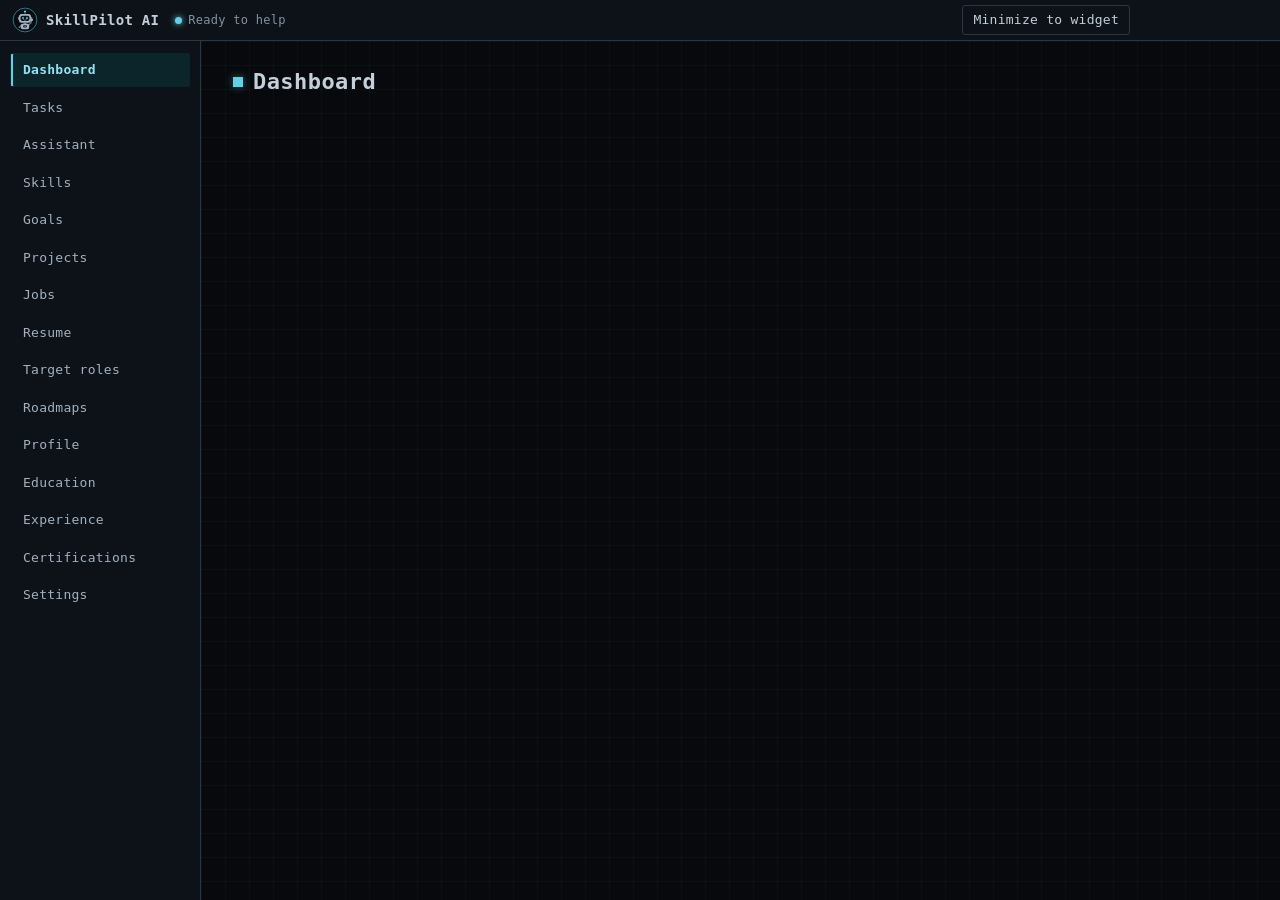
Test: App › switches to Projects
Expected: the heading "Dashboard" is shown, [253,69,376,94]
Click the button "Projects": (100, 257) [10,240,190,274]
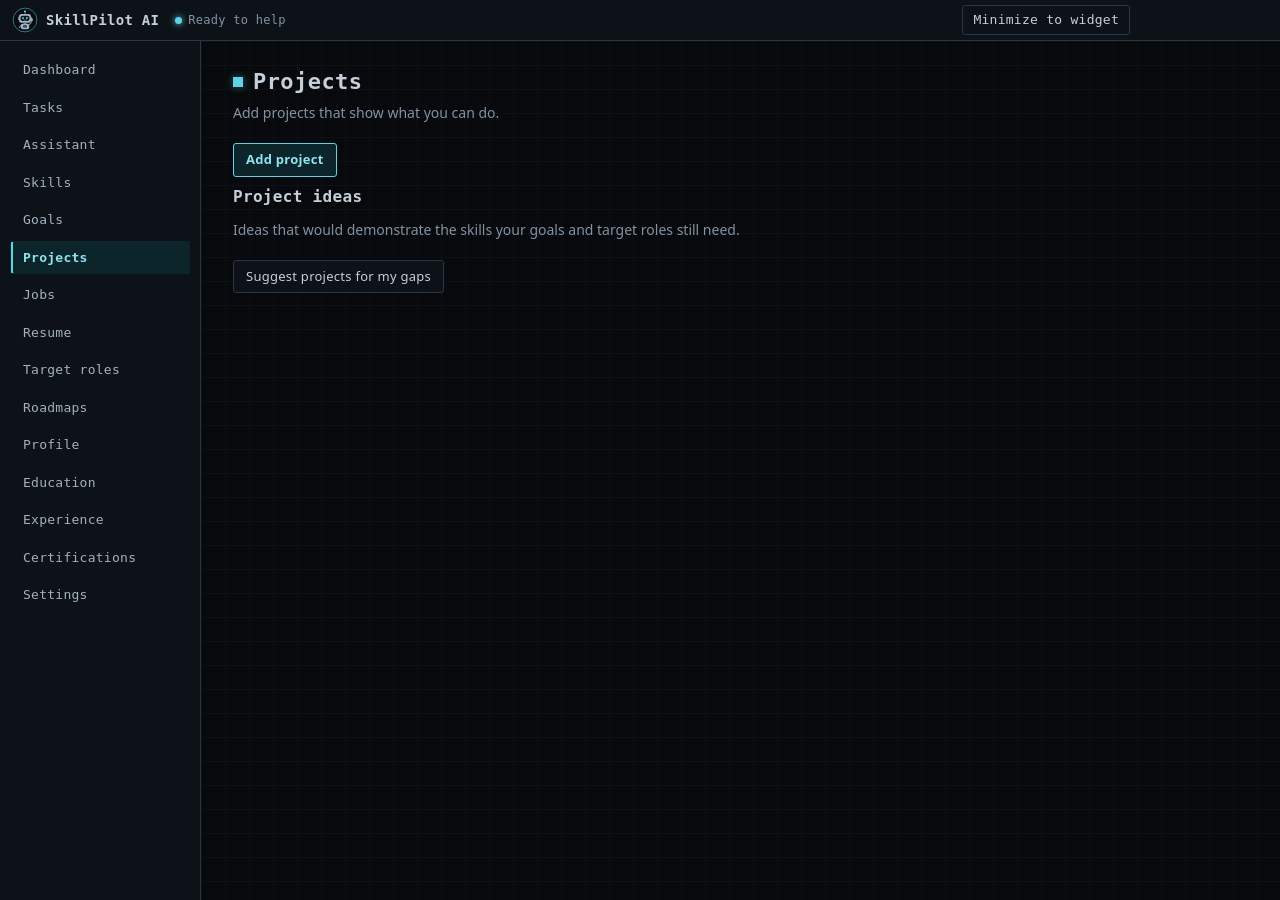
Expected: the heading "Projects" is shown, [253,69,362,94]
